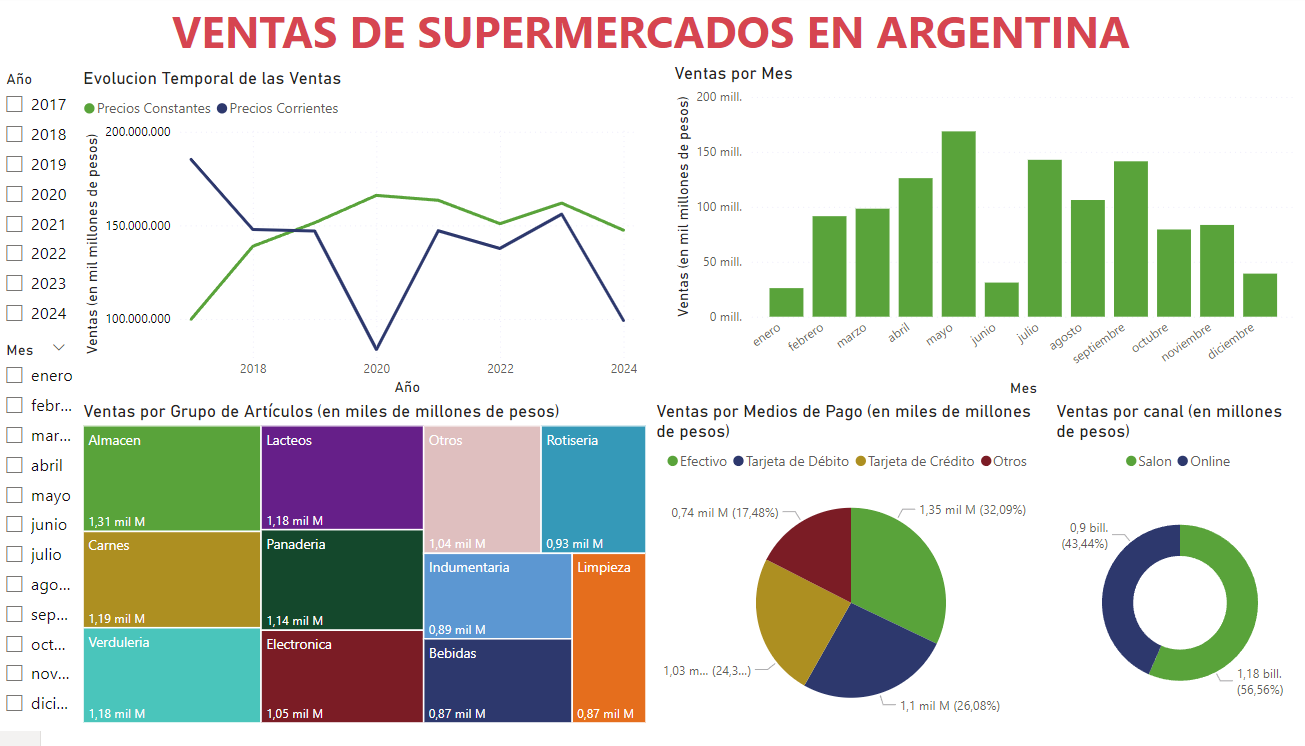

The dashboard page shown, as its layout file describes it:
{"tool":"powerbi","page":{"name":"Consumo en Argentina","canvas":[1280,720],"ordinal":0},"visuals":[{"type":"textbox","box":[0,0,1280,70],"z":0},{"type":"lineChart","title":"Evolucion Temporal de las Ventas","fields":{"Category":["ventas-totales-supermercados-2 (1).Filtro Temporal.Variación.Jerarquía de fechas.Año","ventas-totales-supermercados-2 (1).Filtro Temporal.Variación.Jerarquía de fechas.Mes"],"Y":["Sum(ventas-totales-supermercados-2 (1).precios_constantes_mil_millones)","Sum(ventas-totales-supermercados-2 (1).precios_corrientes_mil_millones)"]},"box":[82.7,70,548.6,323.9],"z":1000},{"type":"donutChart","title":"Ventas por canal (en millones de pesos)","fields":{"Y":["Sum(ventas-totales-supermercados-2 (1).ventas_salon_millones)","Sum(ventas-totales-supermercados-2 (1).ventas_online_millones)"]},"box":[1029.1,393.9,250.9,325.8],"z":2000},{"type":"pieChart","title":"Ventas por Medios de Pago (en miles de millones de pesos)","fields":{"Y":["Sum(ventas-totales-supermercados-2 (1).efectivo_mil_millones)","Sum(ventas-totales-supermercados-2 (1).debito_mil_millones)","Sum(ventas-totales-supermercados-2 (1).credito_mil_millones)","Sum(ventas-totales-supermercados-2 (1).otros_medios_mil_millones)"]},"box":[640,393.9,389.1,325.8],"z":3000},{"type":"treemap","title":"Ventas por Grupo de Artículos (en miles de millones de pesos)","fields":{"Values":["Sum(ventas-totales-supermercados-2 (1).almacen_mil_millones)","Sum(ventas-totales-supermercados-2 (1).bebidas_mil_millones)","Sum(ventas-totales-supermercados-2 (1).carnes_mil_millones)","Sum(ventas-totales-supermercados-2 (1).electronica_mil_millones)","Sum(ventas-totales-supermercados-2 (1).indumentaria_mil_millones)","Sum(ventas-totales-supermercados-2 (1).lacteos_mil_millones)","Sum(ventas-totales-supermercados-2 (1).limpieza_mil_millones)","Sum(ventas-totales-supermercados-2 (1).panaderia_mil_millones)","Sum(ventas-totales-supermercados-2 (1).rotiseria_mil_millones)","Sum(ventas-totales-supermercados-2 (1).otros_mil_millones)","Sum(ventas-totales-supermercados-2 (1).verduleria_mil_millones)"]},"box":[82.7,393.9,557.3,318.1],"z":4000},{"type":"slicer","fields":{"Values":["ventas-totales-supermercados-2 (1).Filtro Temporal.Variación.Jerarquía de fechas.Año"]},"box":[0,67,83,279],"z":5000},{"type":"slicer","fields":{"Values":["ventas-totales-supermercados-2 (1).Filtro Temporal.Variación.Jerarquía de fechas.Mes"]},"box":[0,331,83,389],"z":6000},{"type":"columnChart","title":"Ventas por Mes","fields":{"Category":["ventas-totales-supermercados-2 (1).Filtro Temporal.Variación.Jerarquía de fechas.Mes"],"Y":["Sum(ventas-totales-supermercados-2 (1).total_ventas)"]},"box":[657.5,65.2,613.7,328.8],"z":7000}]}

Visuals, with their boxes in screenshot pixels (x1, y1, x2, y2), scaled from the page's 1280x720 canvas onto the 1305x746 screenshot:
textbox: x1=0, y1=0, x2=1304, y2=73
"Evolucion Temporal de las Ventas" lineChart: x1=84, y1=73, x2=644, y2=408
"Ventas por canal (en millones de pesos)" donutChart: x1=1049, y1=408, x2=1304, y2=745
"Ventas por Medios de Pago (en miles de millones de pesos)" pieChart: x1=652, y1=408, x2=1049, y2=745
"Ventas por Grupo de Artículos (en miles de millones de pesos)" treemap: x1=84, y1=408, x2=652, y2=738
slicer - ventas-totales-supermercados-2 (1).Filtro Temporal.Variación.Jerarquía de fechas.Año: x1=0, y1=69, x2=85, y2=358
slicer - ventas-totales-supermercados-2 (1).Filtro Temporal.Variación.Jerarquía de fechas.Mes: x1=0, y1=343, x2=85, y2=745
"Ventas por Mes" columnChart: x1=670, y1=68, x2=1296, y2=408
